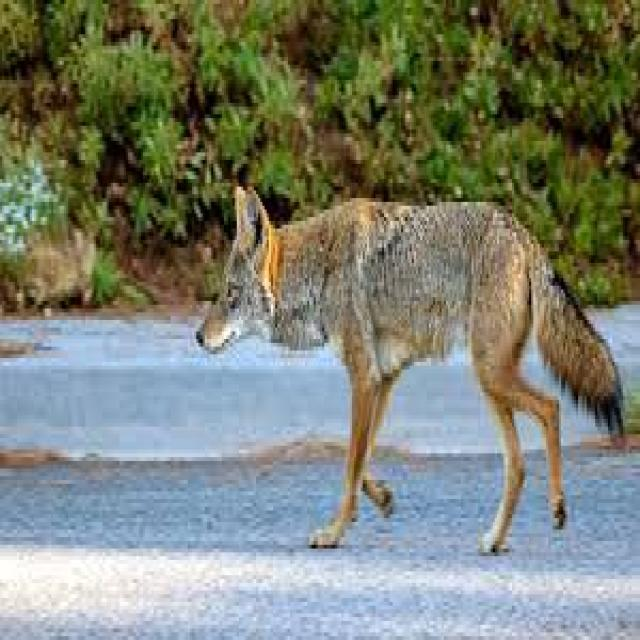Coyote: (193, 163, 626, 563)
